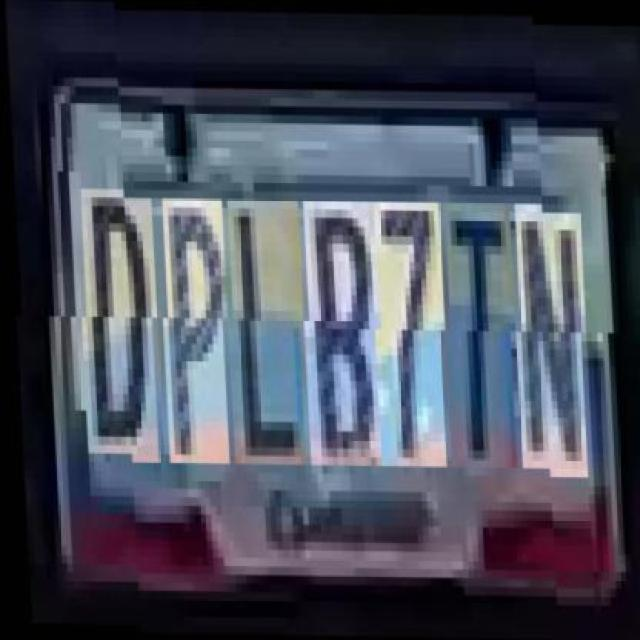7: (370, 201, 448, 465)
b: (301, 200, 382, 465)
d: (78, 197, 160, 461)
l: (225, 199, 306, 464)
n: (512, 202, 590, 467)
p: (161, 199, 230, 463)
t: (442, 202, 518, 466)
